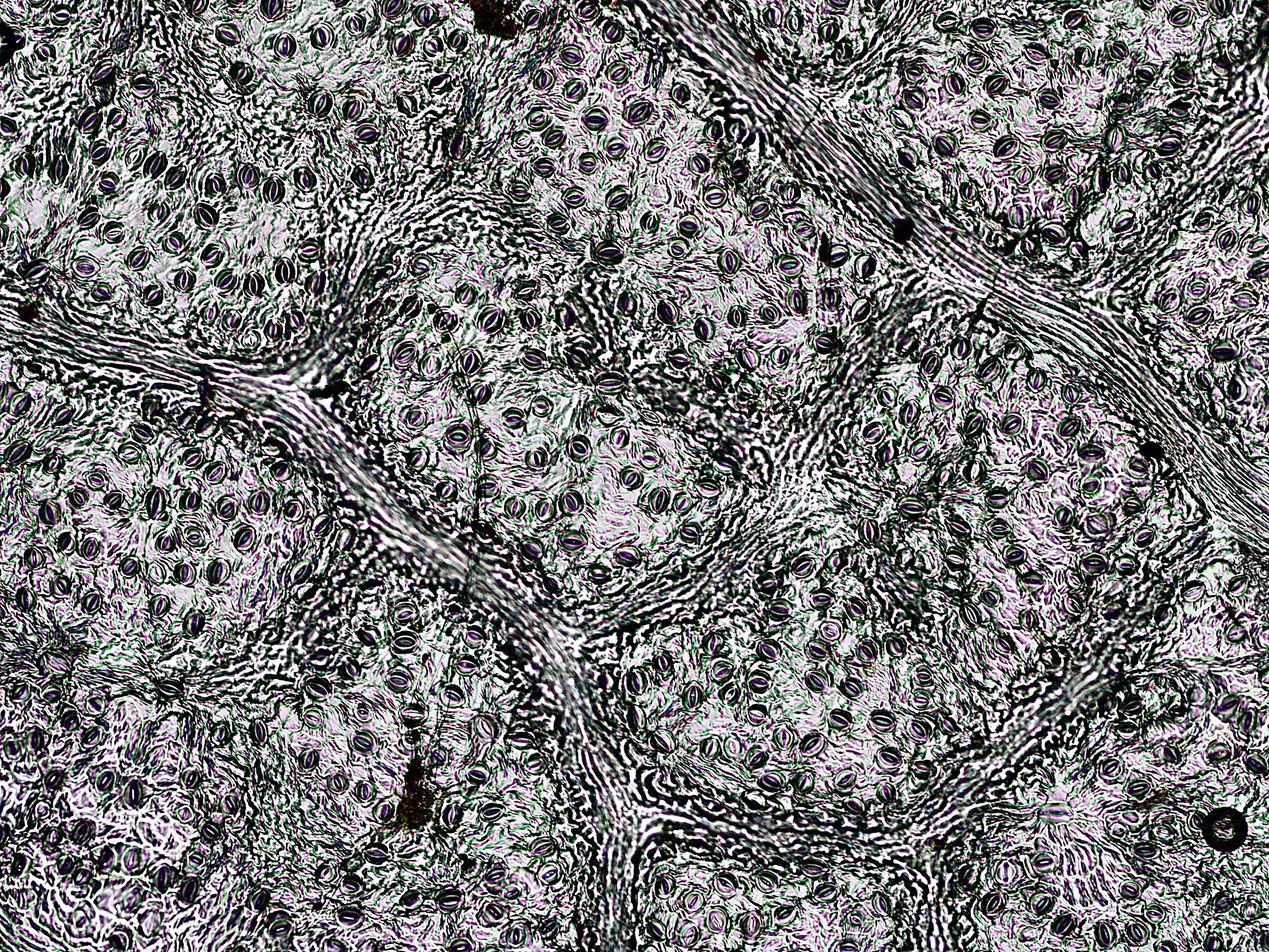stomata: (448, 128, 473, 161), (591, 239, 621, 264), (622, 99, 653, 123), (967, 16, 998, 39), (596, 372, 628, 394), (440, 684, 467, 710), (310, 22, 335, 49), (207, 558, 231, 586), (393, 339, 418, 365), (304, 677, 330, 702), (625, 667, 648, 695), (759, 769, 787, 792), (518, 347, 548, 368), (307, 90, 332, 115), (714, 247, 739, 272), (194, 203, 218, 229), (3, 441, 30, 464), (606, 183, 629, 210), (739, 908, 761, 936), (390, 603, 419, 624), (214, 269, 238, 294), (567, 438, 591, 463), (1105, 123, 1125, 153), (389, 30, 412, 56), (43, 651, 69, 674), (652, 728, 675, 754), (869, 711, 895, 734), (682, 683, 703, 711), (553, 302, 574, 330), (274, 256, 294, 285), (123, 780, 143, 809), (261, 177, 285, 201), (825, 709, 849, 733), (145, 150, 168, 175), (294, 168, 317, 193), (180, 486, 203, 511), (1126, 920, 1149, 945), (582, 108, 608, 130), (297, 238, 319, 264), (462, 350, 484, 376), (184, 609, 206, 635), (436, 888, 462, 910), (149, 489, 168, 519), (243, 271, 264, 298), (39, 498, 60, 525), (73, 819, 94, 846), (771, 902, 798, 923), (800, 857, 827, 878), (810, 589, 837, 610), (1095, 921, 1116, 948), (69, 255, 97, 275), (1076, 444, 1107, 462), (131, 73, 154, 97), (216, 22, 240, 45), (607, 60, 630, 84), (483, 306, 507, 329), (982, 892, 1006, 915), (804, 668, 827, 692), (922, 351, 941, 380), (127, 246, 149, 271), (234, 526, 256, 551), (757, 640, 782, 662), (436, 478, 457, 504), (364, 844, 390, 865), (565, 347, 586, 373), (693, 317, 714, 343), (392, 631, 419, 651), (400, 705, 427, 725), (747, 671, 774, 691), (1041, 130, 1068, 150), (812, 882, 840, 901), (1167, 61, 1195, 80), (230, 61, 253, 84), (469, 382, 492, 405), (525, 446, 548, 469), (216, 494, 239, 517), (715, 871, 738, 894), (655, 299, 678, 322), (387, 669, 411, 691), (621, 466, 643, 490), (800, 732, 824, 754), (877, 747, 901, 769), (965, 459, 987, 483), (854, 254, 876, 278), (162, 232, 187, 253), (115, 443, 140, 464), (519, 306, 540, 331), (514, 279, 539, 300), (561, 490, 582, 515), (899, 400, 920, 425), (335, 877, 364, 895), (901, 498, 927, 518), (726, 304, 746, 330), (306, 270, 325, 297), (443, 426, 470, 445), (154, 862, 171, 892), (92, 60, 115, 82), (521, 535, 543, 558), (845, 598, 868, 620), (885, 635, 908, 657), (934, 134, 957, 156), (1063, 8, 1085, 31), (1168, 5, 1190, 28), (78, 108, 99, 132), (561, 186, 585, 207), (436, 309, 457, 333), (420, 352, 441, 376), (628, 707, 646, 735), (888, 110, 912, 131), (968, 109, 992, 130), (902, 88, 926, 109), (275, 34, 295, 59), (456, 281, 476, 306), (441, 804, 461, 829), (646, 915, 666, 940), (979, 356, 999, 381), (1082, 554, 1107, 574), (1114, 554, 1139, 574), (1030, 893, 1055, 913), (1051, 914, 1076, 934), (1041, 223, 1066, 243), (49, 155, 68, 181), (642, 140, 668, 159), (779, 254, 805, 273), (992, 138, 1018, 157), (965, 410, 982, 439), (1210, 342, 1237, 360), (605, 135, 627, 157), (43, 450, 65, 472), (678, 215, 700, 237), (22, 546, 44, 568), (756, 870, 778, 892), (936, 11, 958, 33), (341, 99, 364, 120), (564, 79, 585, 102), (182, 445, 205, 466), (9, 392, 30, 415), (531, 395, 552, 418), (120, 555, 141, 578), (534, 498, 555, 521), (1237, 709, 1258, 732), (1038, 88, 1061, 109), (559, 44, 583, 64), (602, 18, 622, 42), (506, 180, 530, 200), (250, 489, 270, 513), (16, 586, 36, 610), (358, 628, 382, 648), (960, 602, 980, 626), (877, 382, 897, 406), (1023, 40, 1047, 60), (614, 547, 642, 564), (666, 239, 691, 258), (774, 726, 793, 751), (788, 289, 807, 314), (1159, 289, 1178, 314), (1185, 304, 1211, 322), (201, 244, 223, 265), (404, 407, 425, 429), (58, 533, 79, 555), (80, 726, 101, 748), (863, 421, 884, 443), (909, 438, 931, 459), (706, 370, 727, 392), (825, 245, 847, 266), (1245, 754, 1267, 775), (351, 167, 374, 187), (545, 212, 568, 232), (175, 561, 195, 584), (291, 562, 311, 585), (312, 514, 332, 537), (475, 474, 498, 494), (709, 661, 732, 681), (932, 385, 952, 408), (1028, 460, 1048, 483), (1215, 696, 1238, 716), (945, 518, 972, 535), (409, 446, 428, 470), (523, 755, 547, 774), (454, 655, 478, 674), (708, 909, 727, 933), (701, 736, 720, 760), (1003, 544, 1027, 563), (738, 350, 762, 369), (479, 802, 504, 820), (1020, 607, 1038, 632), (618, 292, 636, 317), (588, 567, 614, 584), (397, 95, 418, 116), (185, 525, 206, 546), (86, 693, 107, 714), (807, 639, 828, 660), (875, 783, 896, 804), (1113, 211, 1134, 232), (206, 175, 226, 197), (355, 122, 377, 142), (150, 200, 170, 222), (143, 284, 163, 306), (175, 268, 195, 290), (80, 538, 100, 560), (95, 770, 115, 792), (209, 722, 229, 744), (819, 621, 841, 641), (910, 690, 932, 710), (1224, 376, 1244, 398), (983, 73, 1005, 93), (89, 140, 108, 163), (4, 736, 23, 759), (507, 496, 526, 519), (638, 449, 661, 468), (792, 558, 815, 577), (672, 491, 691, 514), (793, 772, 812, 795), (1001, 415, 1024, 434), (1134, 525, 1153, 548), (996, 861, 1015, 884), (79, 206, 97, 230), (541, 129, 565, 147), (814, 333, 838, 351), (1085, 515, 1109, 533), (1233, 292, 1257, 310), (529, 838, 554, 855), (853, 298, 870, 323), (1155, 604, 1172, 629), (265, 319, 285, 340), (410, 256, 430, 277), (10, 681, 30, 702), (156, 682, 184, 697), (353, 732, 373, 753), (317, 862, 337, 883), (993, 633, 1013, 654), (1128, 459, 1149, 479), (1033, 852, 1054, 872), (238, 165, 257, 187), (448, 29, 467, 51), (102, 222, 124, 241), (524, 10, 543, 32), (403, 293, 422, 315), (720, 683, 739, 705), (860, 520, 879, 542), (951, 335, 970, 357), (731, 158, 750, 180), (1100, 759, 1122, 778), (1161, 745, 1183, 764), (1186, 809, 1205, 831), (724, 735, 743, 757), (1012, 204, 1031, 226), (251, 719, 267, 745), (167, 166, 185, 189), (130, 424, 153, 442), (183, 766, 201, 789), (704, 185, 722, 208), (782, 182, 800, 205), (761, 2, 779, 25), (309, 649, 333, 666), (561, 532, 585, 549), (671, 80, 688, 104), (346, 657, 361, 684), (1094, 166, 1109, 193), (786, 8, 801, 35), (534, 69, 554, 89), (579, 1, 599, 21), (479, 435, 495, 460), (842, 678, 862, 698), (1210, 743, 1230, 763), (424, 35, 443, 56), (285, 310, 304, 331), (83, 591, 102, 612), (150, 595, 169, 616), (327, 773, 346, 794), (511, 732, 532, 751), (747, 748, 766, 769), (698, 477, 719, 496), (856, 643, 877, 662), (988, 520, 1009, 539), (749, 198, 770, 217), (1123, 699, 1144, 718), (1228, 576, 1249, 595), (960, 180, 979, 201), (526, 110, 548, 128), (503, 409, 525, 427), (156, 532, 174, 554), (656, 875, 674, 897), (682, 924, 700, 946), (1244, 193, 1262, 215), (83, 472, 106, 489), (466, 766, 489, 783), (842, 797, 865, 814), (1019, 571, 1042, 588), (668, 351, 691, 368), (1126, 780, 1149, 797), (947, 72, 964, 95), (820, 19, 837, 42), (270, 462, 294, 478), (28, 727, 44, 751), (986, 491, 1010, 507), (346, 14, 365, 34), (93, 283, 113, 302), (300, 749, 319, 769), (303, 708, 323, 727), (352, 703, 372, 722), (876, 445, 896, 464), (690, 153, 709, 173), (899, 147, 918, 167), (205, 461, 226, 479), (52, 576, 70, 597), (356, 780, 374, 801), (872, 894, 890, 915), (648, 488, 666, 509), (704, 633, 722, 654), (1212, 894, 1233, 912), (54, 403, 71, 425), (400, 891, 422, 908), (462, 627, 484, 644), (1183, 584, 1205, 601), (1043, 165, 1066, 181), (126, 145, 145, 164), (221, 796, 240, 815), (610, 427, 629, 446), (653, 654, 672, 673), (835, 771, 854, 790), (947, 549, 966, 568), (771, 344, 790, 363), (1061, 417, 1080, 436), (431, 74, 449, 94), (577, 155, 597, 173), (285, 501, 303, 521), (479, 717, 497, 737), (771, 599, 791, 617), (760, 303, 778, 323), (1240, 900, 1260, 918), (1228, 623, 1246, 643), (1134, 65, 1154, 83), (182, 879, 199, 900), (539, 867, 560, 884), (748, 706, 765, 727), (1029, 370, 1046, 391), (965, 53, 986, 70), (533, 160, 555, 176), (639, 211, 655, 233), (979, 589, 1001, 605), (1186, 280, 1208, 296), (418, 4, 436, 23), (17, 156, 35, 175), (222, 311, 240, 330), (69, 489, 87, 508), (42, 685, 61, 703), (61, 713, 80, 731), (686, 892, 704, 911), (913, 666, 931, 685), (1146, 904, 1163, 924), (1110, 42, 1130, 59), (842, 912, 866, 926), (823, 286, 839, 307), (1068, 185, 1082, 209), (202, 302, 217, 324), (337, 909, 359, 924), (791, 223, 813, 238), (1196, 369, 1211, 391), (909, 720, 927, 738), (243, 333, 262, 350), (45, 768, 62, 787), (200, 822, 219, 839), (485, 905, 504, 922), (704, 120, 721, 139), (1194, 212, 1213, 229), (512, 131, 532, 147), (105, 492, 125, 508), (11, 857, 27, 877), (1063, 384, 1079, 404), (1124, 497, 1144, 513), (268, 921, 289, 936), (508, 924, 523, 945), (1116, 163, 1131, 184), (1158, 137, 1179, 152), (51, 8, 69, 25), (542, 919, 560, 936), (97, 174, 116, 190), (148, 564, 164, 583), (1065, 594, 1081, 613), (1135, 842, 1154, 858), (1219, 230, 1235, 249), (1120, 882, 1140, 897), (111, 111, 125, 132), (252, 891, 268, 909), (1073, 48, 1091, 64), (483, 868, 505, 881), (35, 43, 54, 58), (1153, 825, 1172, 840), (1142, 165, 1163, 178), (1056, 508, 1072, 525), (680, 524, 698, 539), (1112, 823, 1127, 841), (905, 65, 923, 80), (431, 748, 445, 767), (1016, 167, 1033, 182), (378, 803, 392, 821), (1082, 478, 1098, 493), (176, 806, 192, 820), (1119, 725, 1136, 738), (504, 889, 521, 900), (189, 852, 201, 866)
